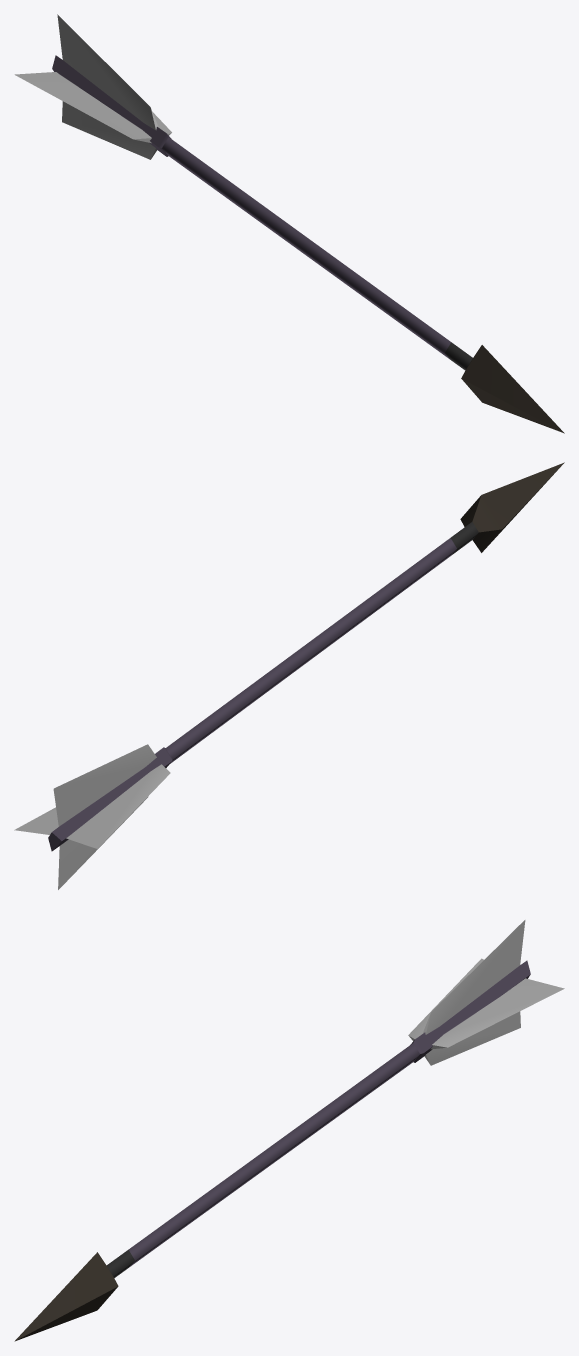
Rendered from PT_Arrow_03_a.glb.
3 renders of one model, top to bottom at view 1: azimuth 30°, elevation 25°; view 2: azimuth 150°, elevation 25°; view 3: azimuth 330°, elevation 25°, orthographic.
Visible parts, largest first — view 1: PT_Arrow_03_a; view 2: PT_Arrow_03_a; view 3: PT_Arrow_03_a.
Part boxes in pixels (x1,y1,x2,y2): PT_Arrow_03_a: (14,14,564,433); PT_Arrow_03_a: (14,462,564,889); PT_Arrow_03_a: (14,920,564,1341).
Bounding box in the file's own units: 0.0539 × 0.0618 × 0.5462.
Materials: 1 (1 with a texture image).
